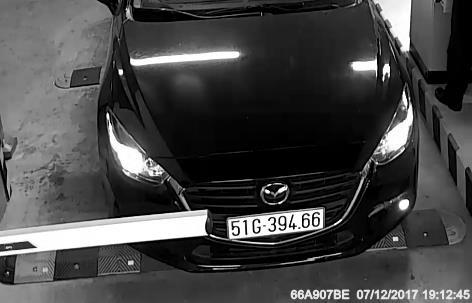License-plate: (222, 204, 331, 248)
